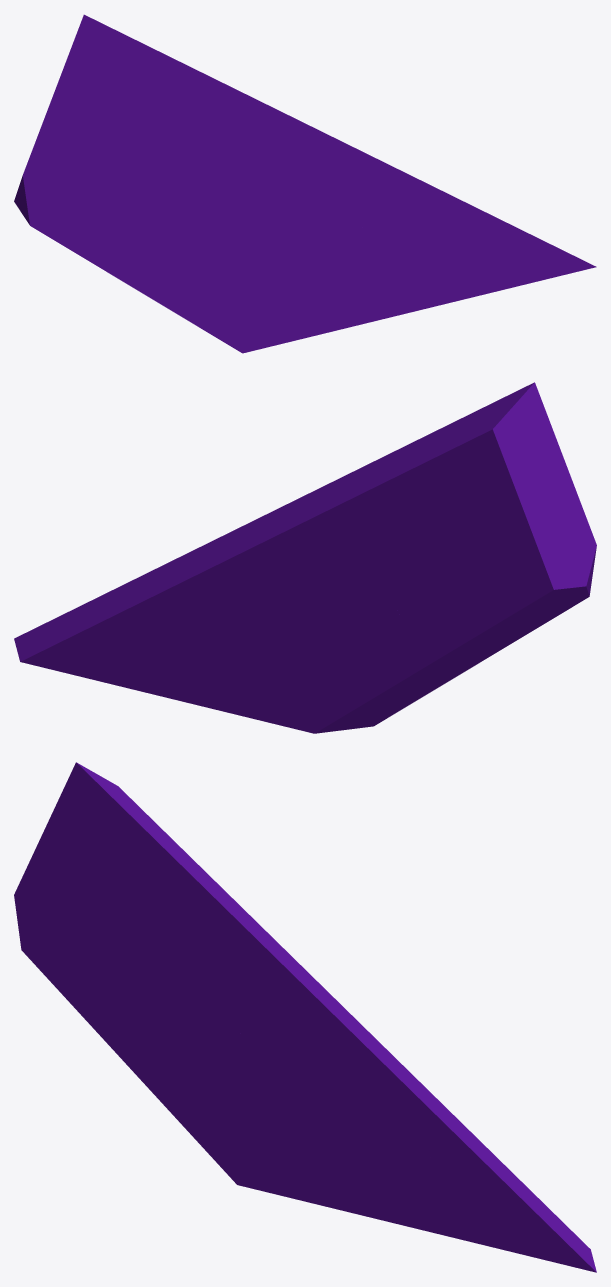
File: ElevatorWall_2_6_chunks.fbx
3 renders of one model, top to bottom at view 1: azimuth 30°, elevation 25°; view 2: azimuth 150°, elevation 25°; view 3: azimuth 330°, elevation 25°, orthographic.
Visible parts, largest first — view 1: ElevatorWall_2_6_2, ElevatorWall_2_6_1, ElevatorWall_2_6_8, ElevatorWall_2_6_4, ElevatorWall_2_6_3, ElevatorWall_2_6_6, ElevatorWall_2_6_0, ElevatorWall_2_6_5, ElevatorWall_2_6_9; view 2: ElevatorWall_2_6_2, ElevatorWall_2_6_5, ElevatorWall_2_6_1, ElevatorWall_2_6_3, ElevatorWall_2_6_7, ElevatorWall_2_6_8, ElevatorWall_2_6_9, ElevatorWall_2_6_4; view 3: ElevatorWall_2_6_1, ElevatorWall_2_6_2, ElevatorWall_2_6_8, ElevatorWall_2_6_4, ElevatorWall_2_6_3, ElevatorWall_2_6_5, ElevatorWall_2_6_6, ElevatorWall_2_6_0, ElevatorWall_2_6_9.
Boxes of the visible parts, x1,y1,x2,y2 form: ElevatorWall_2_6_2: (14, 20, 165, 291); ElevatorWall_2_6_1: (82, 14, 399, 206); ElevatorWall_2_6_8: (367, 233, 596, 321); ElevatorWall_2_6_4: (220, 170, 417, 264); ElevatorWall_2_6_3: (153, 213, 273, 349); ElevatorWall_2_6_6: (236, 262, 369, 353); ElevatorWall_2_6_0: (141, 164, 224, 299); ElevatorWall_2_6_5: (357, 179, 530, 234); ElevatorWall_2_6_9: (259, 232, 379, 297); ElevatorWall_2_6_2: (389, 387, 596, 668); ElevatorWall_2_6_5: (18, 549, 320, 682); ElevatorWall_2_6_1: (214, 382, 536, 595); ElevatorWall_2_6_3: (311, 587, 464, 723); ElevatorWall_2_6_7: (205, 683, 371, 733); ElevatorWall_2_6_8: (14, 606, 225, 706); ElevatorWall_2_6_9: (225, 680, 327, 715); ElevatorWall_2_6_4: (196, 540, 350, 615); ElevatorWall_2_6_1: (74, 762, 396, 1076); ElevatorWall_2_6_2: (14, 766, 159, 1071); ElevatorWall_2_6_8: (363, 1130, 596, 1272); ElevatorWall_2_6_4: (214, 1027, 415, 1118); ElevatorWall_2_6_3: (146, 1031, 268, 1177); ElevatorWall_2_6_5: (354, 1049, 592, 1257); ElevatorWall_2_6_6: (230, 1136, 365, 1210); ElevatorWall_2_6_0: (133, 955, 218, 1085); ElevatorWall_2_6_9: (254, 1110, 375, 1153).
Bounding box in the file's own units: 861 × 542 × 57.27.
